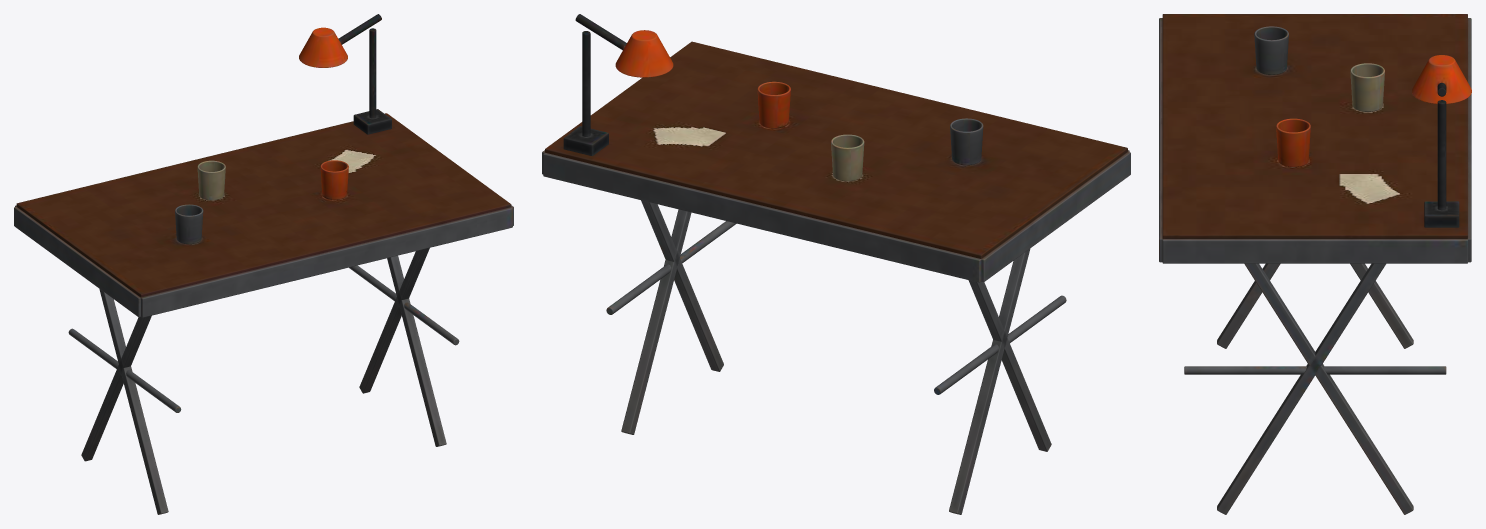
The model's file is folding_table.glb.
3 views of the same model, side by side, from view 1: azimuth 30°, elevation 25°; view 2: azimuth 150°, elevation 25°; view 3: azimuth 270°, elevation 25° (orthographic). The views are drawn at different scales.
Parts seen in each view (by area): view 1: folding_table; view 2: folding_table; view 3: folding_table.
Boxes of the visible parts, left/top/right/bottom form: folding_table: left=14, top=14, right=513, bottom=514; folding_table: left=542, top=14, right=1130, bottom=514; folding_table: left=1159, top=14, right=1471, bottom=514.
Size of the model in its own units: 1.22 by 1.12 by 0.7167.
2 materials, 2 textured.
